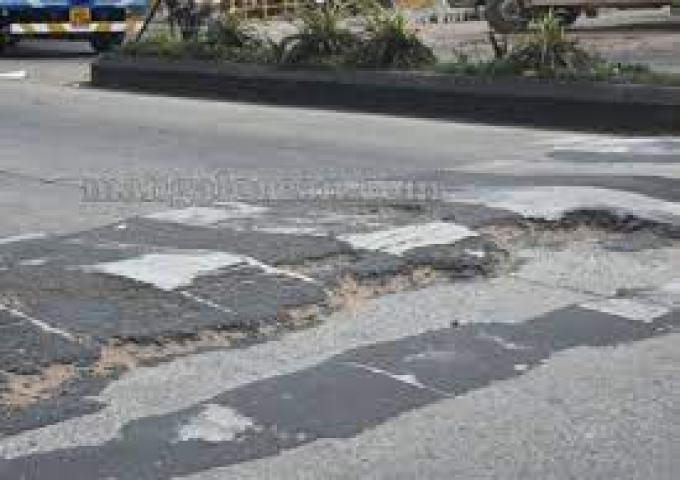speedbreaker: (0, 107, 678, 478)
